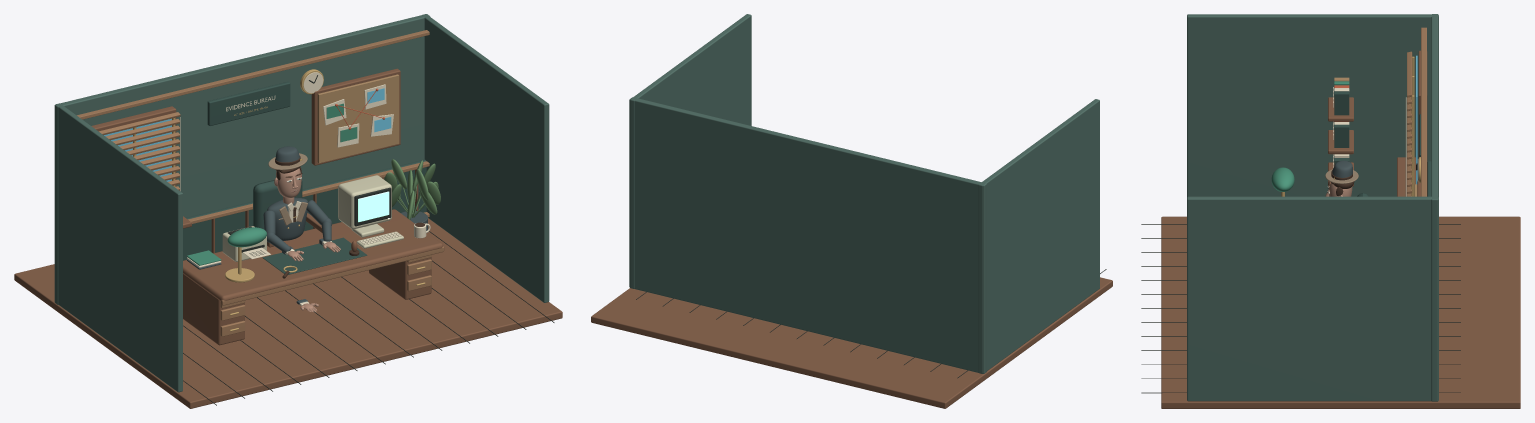
Rendered from bureau.glb.
3 renders of one model, left to right at view 1: azimuth 30°, elevation 25°; view 2: azimuth 150°, elevation 25°; view 3: azimuth 270°, elevation 25°, orthographic. The views are drawn at different scales.
Parts seen in each view (by area): view 1: Floor, Back wall, Side wall, Side wall.001, Desk top, Cork, Wainscot, Wall molding.002, Bureau sign, Desk pedestal, Leather writing mat, CRT casing (+11 smaller); view 2: Back wall, Side wall, Floor, Side wall.001; view 3: Side wall.001, Side wall, Floor, Back wall, Wall molding.002, LampShade, Window sill, Window frame, Shelf.002, Archive volume.014, Shelf.001, Archive volume.009 (+1 smaller).
Part boxes in pixels (box(x1,y1,x2,y2)): Floor: box(14, 218, 562, 408); Back wall: box(54, 14, 430, 304); Side wall: box(56, 103, 182, 392); Side wall.001: box(422, 14, 549, 302); Desk top: box(183, 209, 442, 301); Cork: box(317, 74, 399, 163); Wainscot: box(183, 159, 426, 260); Wall molding.002: box(77, 30, 429, 119); Bureau sign: box(207, 81, 290, 125); Desk pedestal: box(183, 274, 244, 345); Leather writing mat: box(262, 237, 367, 274); CRT casing: box(338, 175, 391, 229); Back wall: box(629, 97, 986, 373); Side wall: box(978, 99, 1099, 373); Floor: box(591, 277, 1112, 408); Side wall.001: box(630, 14, 751, 288); Side wall.001: box(1187, 196, 1438, 401); Side wall: box(1187, 14, 1438, 197); Floor: box(1161, 216, 1520, 408); Back wall: box(1431, 14, 1438, 401); Wall molding.002: box(1421, 27, 1426, 196); LampShade: box(1271, 167, 1294, 191); Window sill: box(1397, 157, 1415, 196); Window frame: box(1418, 50, 1427, 196); Shelf.002: box(1328, 97, 1353, 121); Archive volume.014: box(1334, 91, 1349, 115); Shelf.001: box(1328, 130, 1353, 154); Archive volume.009: box(1334, 124, 1349, 147).
Size of the model in its own units: 11 by 5.8 by 9.5.
